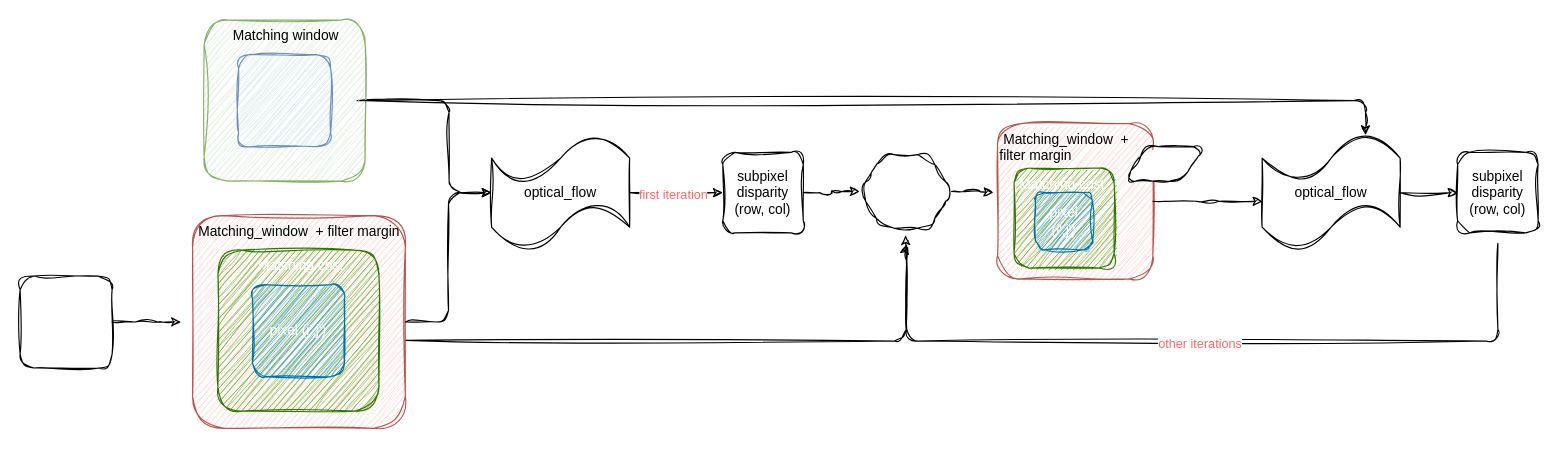
This 1558x449 diagram has some shape labels left out. The shapes that lost their labels are listed below. From the top down, each one's centre as x and y in pixels, then its label:
point 284,100: pixel (i,j)
point 1164,163: shifted
point 905,191: resampling
point 65,321: pixel disparity (row, col)
